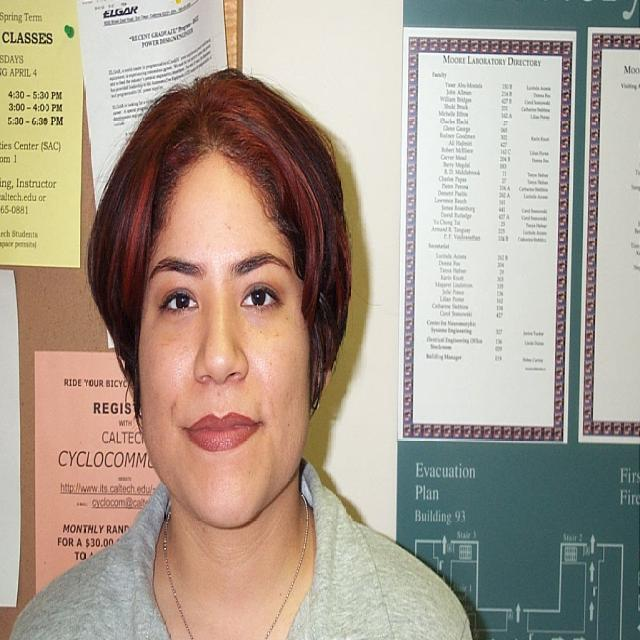sem_oculos: (95, 247, 340, 353)
